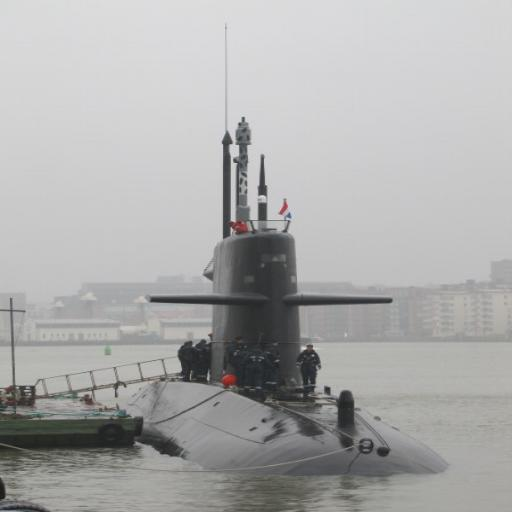submarine: (116, 107, 456, 478)
